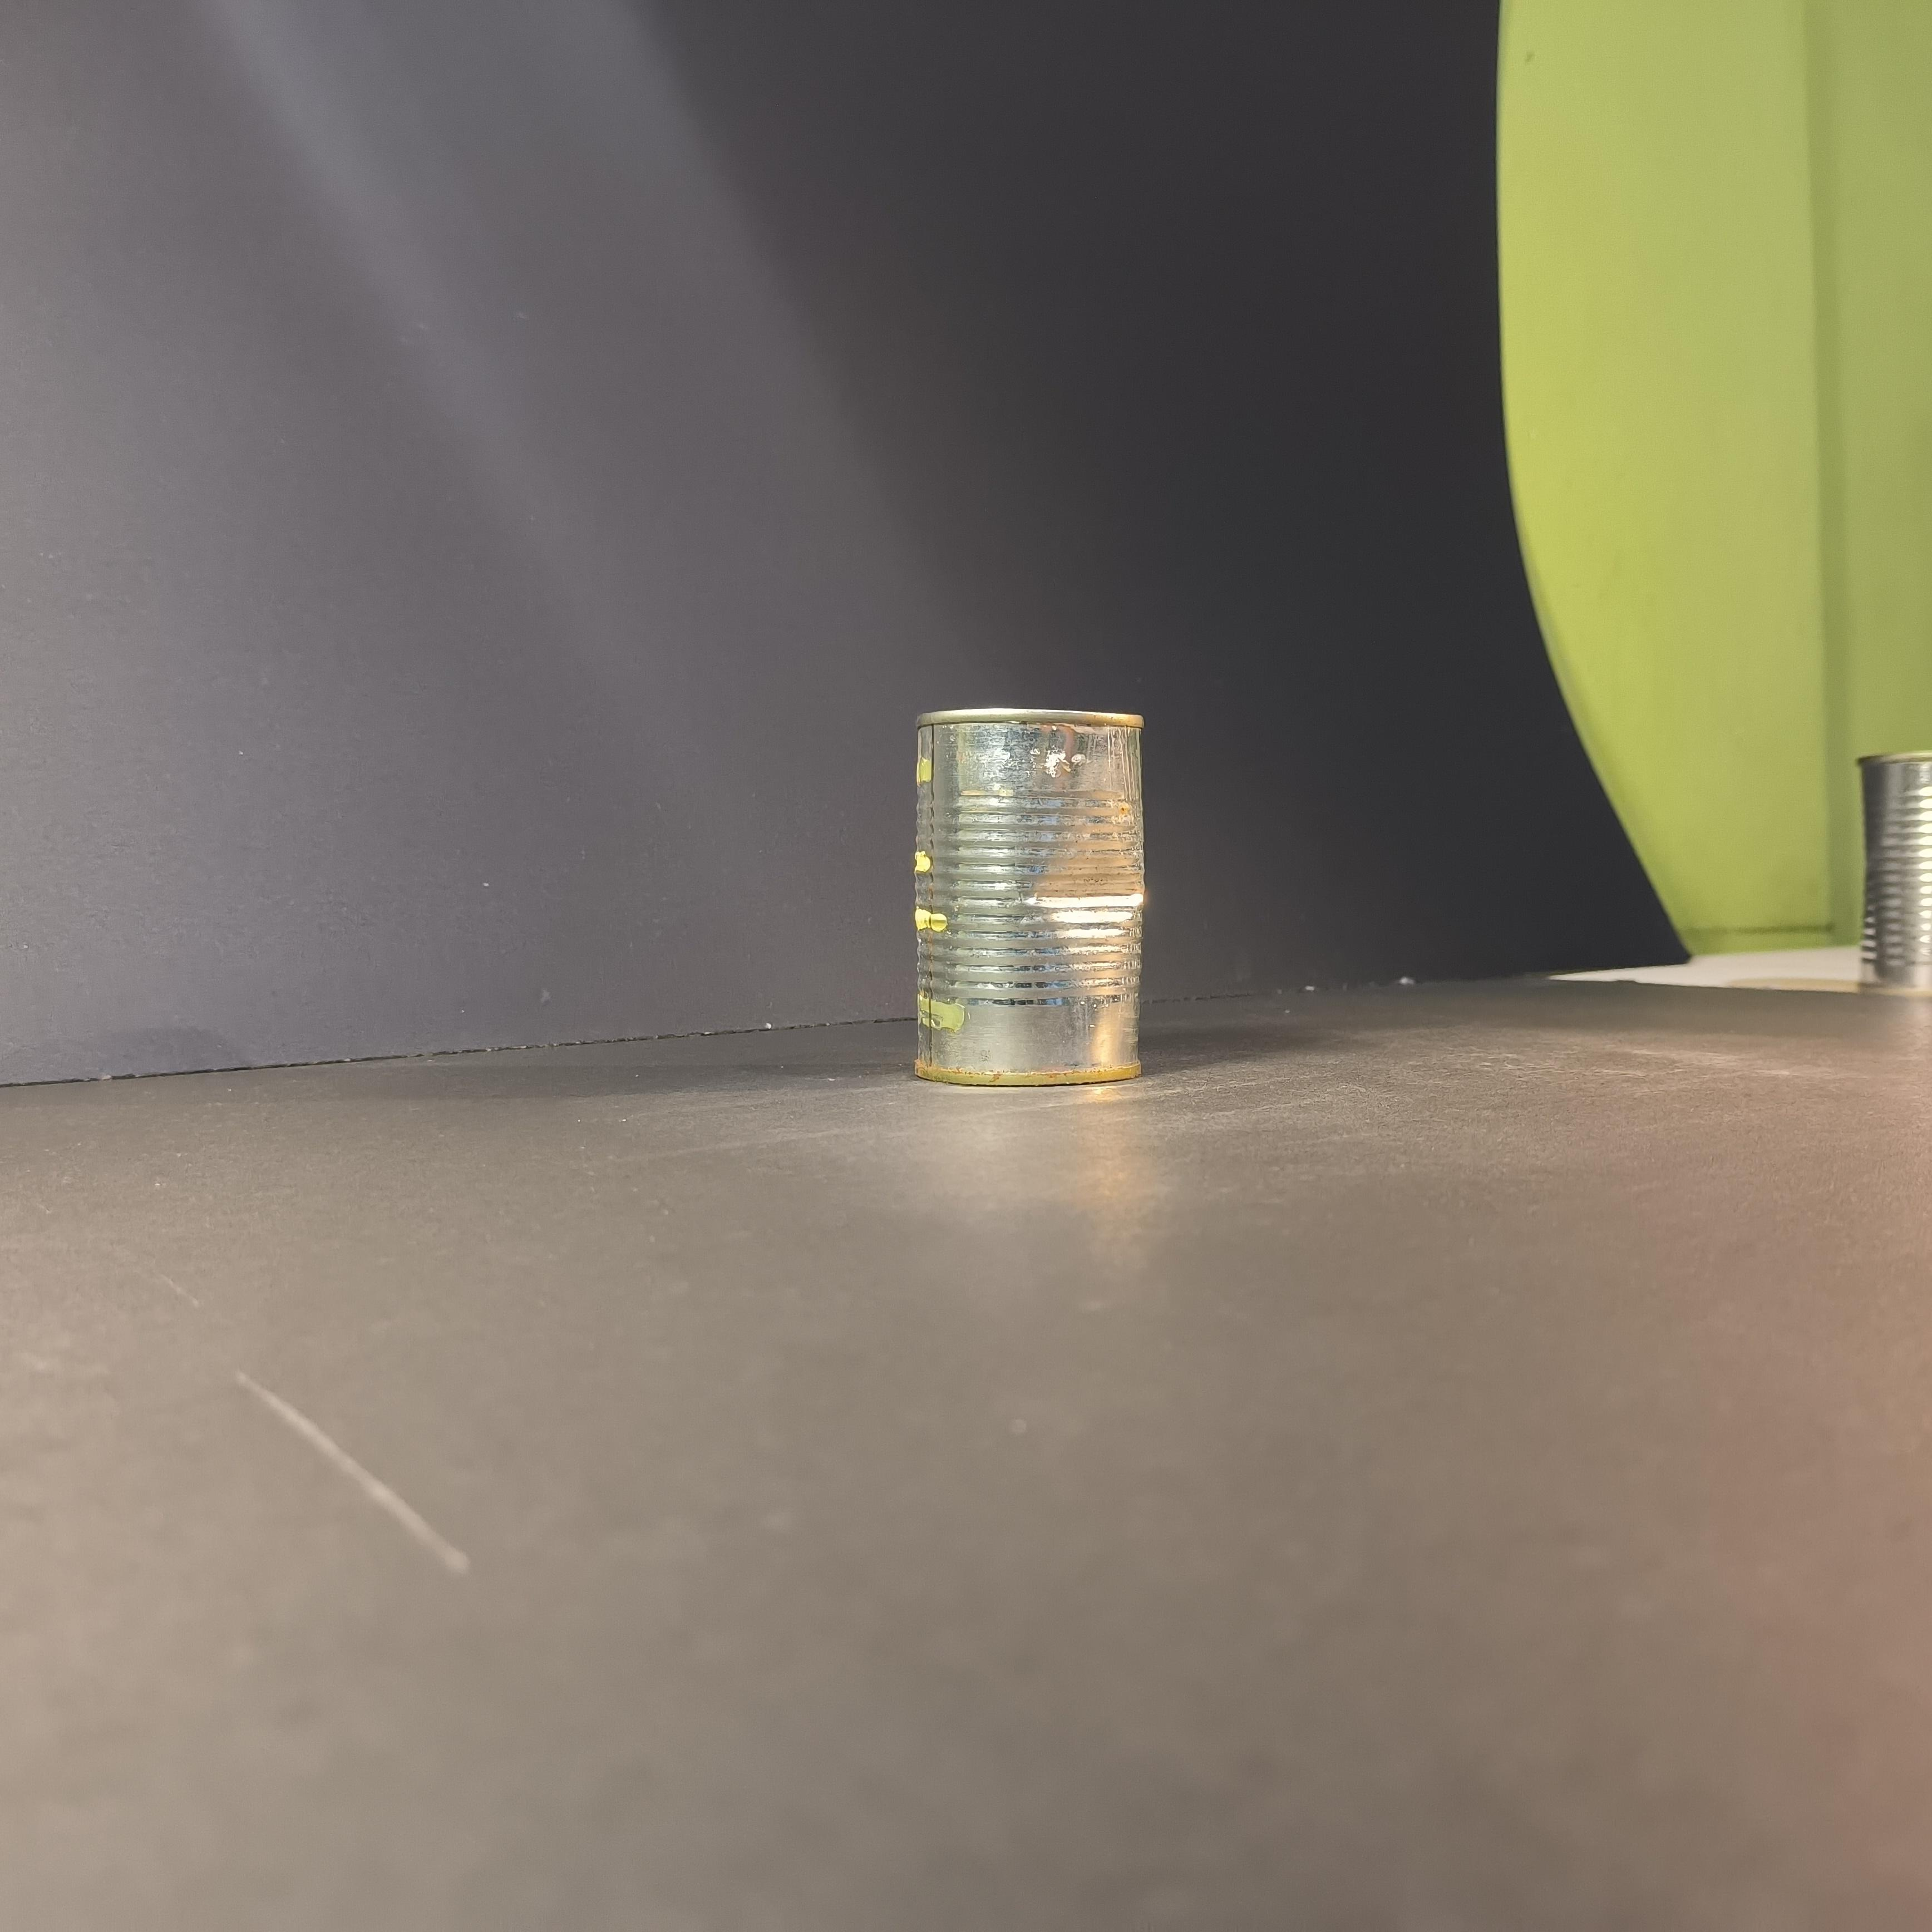Dented: (890, 671, 1177, 1141)
